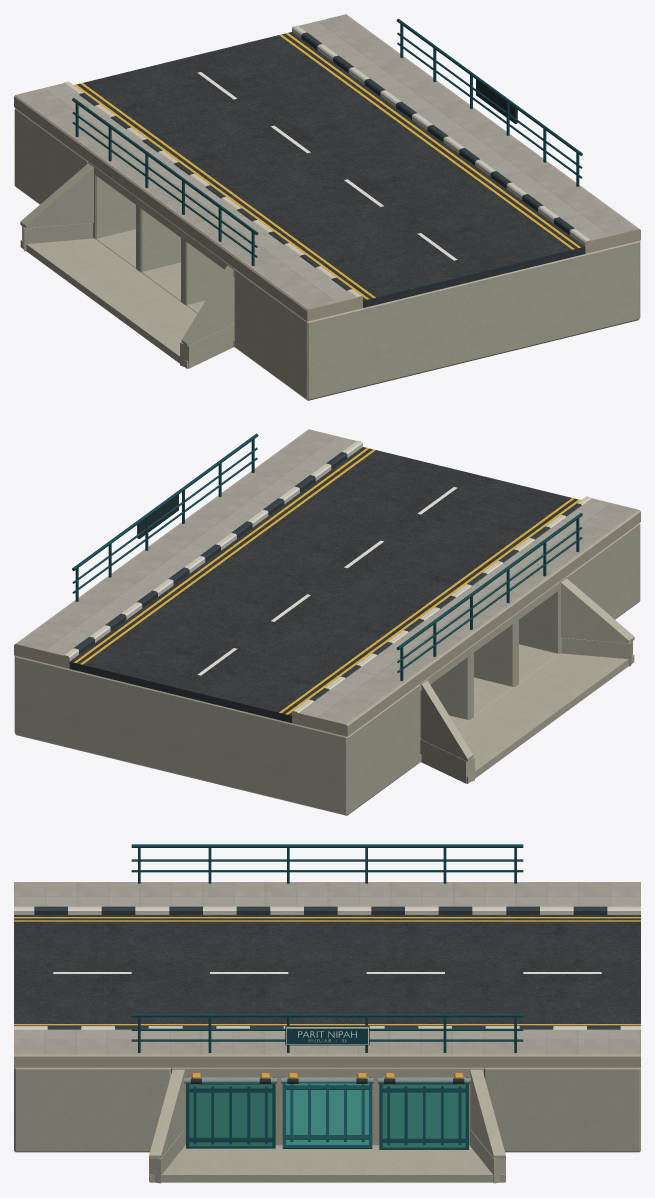
3 renders of one model, top to bottom at view 1: azimuth 30°, elevation 25°; view 2: azimuth 150°, elevation 25°; view 3: azimuth 270°, elevation 25°, orthographic. The views are drawn at different scales.
Parts seen in each view (by area): view 1: Road Deck, Approach Abutments, Kerbs and Footways, Scour Aprons, Splayed Wingwalls, Barrel Walls, Flood Parapets, Road Markings, Culvert Invert, Soffit Slab, Waterway Plate; view 2: Road Deck, Approach Abutments, Kerbs and Footways, Scour Aprons, Splayed Wingwalls, Barrel Walls, Flood Parapets, Road Markings, Culvert Invert, Soffit Slab, Waterway Plate; view 3: Road Deck, Kerbs and Footways, Approach Abutments, Flap Castings, Scour Aprons, Flood Parapets, Splayed Wingwalls, Road Markings, Soffit Slab, Waterway Plate, Hinge Pins, Barrel Walls.
Boxes of the visible parts, left/top/right/bottom form: Road Deck: left=77, top=32, right=585, bottom=307; Approach Abutments: left=14, top=108, right=640, bottom=400; Kerbs and Footways: left=14, top=14, right=640, bottom=321; Scour Aprons: left=20, top=238, right=197, bottom=368; Splayed Wingwalls: left=20, top=163, right=234, bottom=368; Barrel Walls: left=93, top=174, right=234, bottom=323; Flood Parapets: left=72, top=18, right=582, bottom=265; Road Markings: left=74, top=33, right=580, bottom=299; Culvert Invert: left=96, top=229, right=234, bottom=347; Soffit Slab: left=88, top=161, right=234, bottom=276; Waterway Plate: left=476, top=79, right=517, bottom=123; Road Deck: left=69, top=447, right=577, bottom=722; Approach Abutments: left=14, top=523, right=640, bottom=815; Kerbs and Footways: left=14, top=429, right=640, bottom=736; Scour Aprons: left=457, top=653, right=634, bottom=783; Splayed Wingwalls: left=420, top=578, right=634, bottom=783; Barrel Walls: left=420, top=585, right=561, bottom=738; Flood Parapets: left=72, top=433, right=582, bottom=680; Road Markings: left=74, top=448, right=580, bottom=714; Culvert Invert: left=420, top=644, right=558, bottom=762; Soffit Slab: left=420, top=576, right=566, bottom=691; Waterway Plate: left=137, top=494, right=178, bottom=538; Road Deck: left=14, top=915, right=640, bottom=1025; Kerbs and Footways: left=14, top=882, right=640, bottom=1067; Approach Abutments: left=14, top=1067, right=640, bottom=1152; Flap Castings: left=186, top=1082, right=468, bottom=1149; Scour Aprons: left=149, top=1145, right=505, bottom=1182; Flood Parapets: left=131, top=844, right=523, bottom=1052; Splayed Wingwalls: left=149, top=1069, right=505, bottom=1183; Road Markings: left=14, top=917, right=640, bottom=1025; Soffit Slab: left=171, top=1067, right=483, bottom=1077; Waterway Plate: left=285, top=1025, right=369, bottom=1045; Hinge Pins: left=184, top=1078, right=470, bottom=1083; Barrel Walls: left=184, top=1072, right=470, bottom=1145.
Size of the model in its own units: 14.18 by 3.85 by 16.
Materials: 17 (3 with a texture image).
